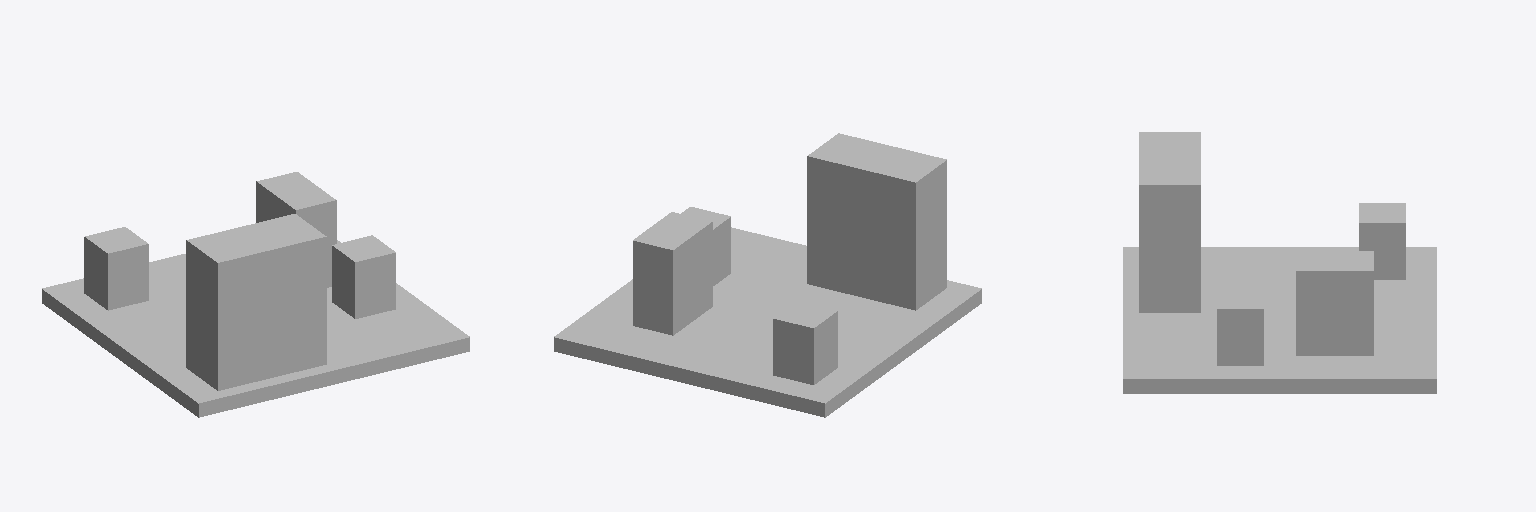
File: floor_blocks.obj
3 renders of one model, left to right at view 1: azimuth 30°, elevation 25°; view 2: azimuth 150°, elevation 25°; view 3: azimuth 270°, elevation 25°, orthographic.
Visible parts, largest first — view 1: floor_blocks; view 2: floor_blocks; view 3: floor_blocks.
Boxes of the visible parts, x1,y1,x2,y2 form: floor_blocks: [42, 172, 469, 417]; floor_blocks: [554, 133, 981, 417]; floor_blocks: [1123, 132, 1436, 393].
Size of the model in its own units: 40 by 20 by 40.